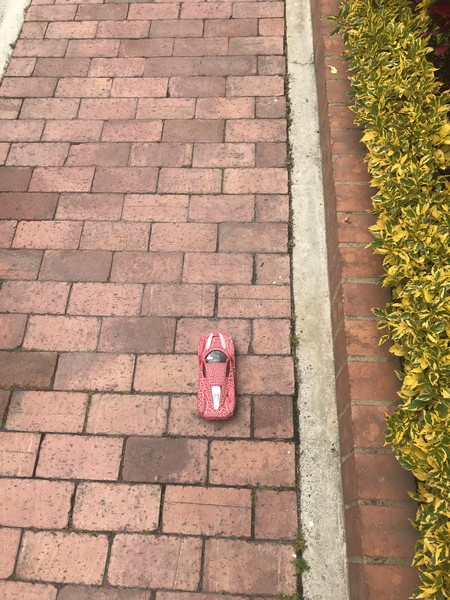RC: (196, 330, 239, 422)
